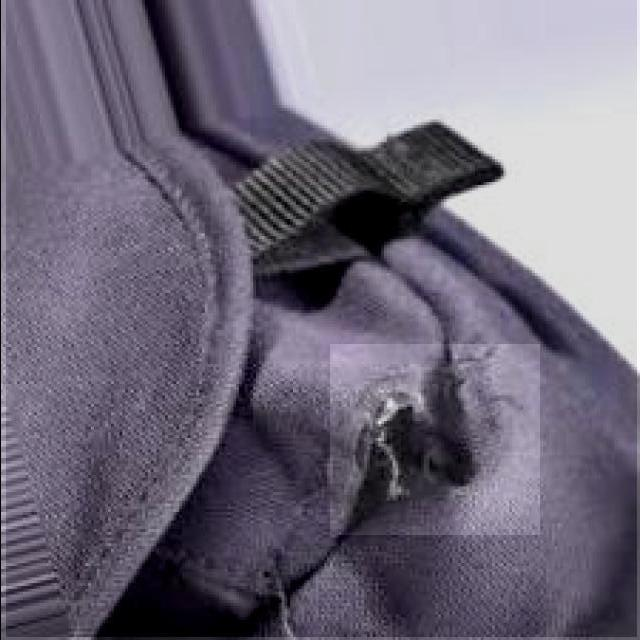Damage-bag: (331, 345, 538, 535)
